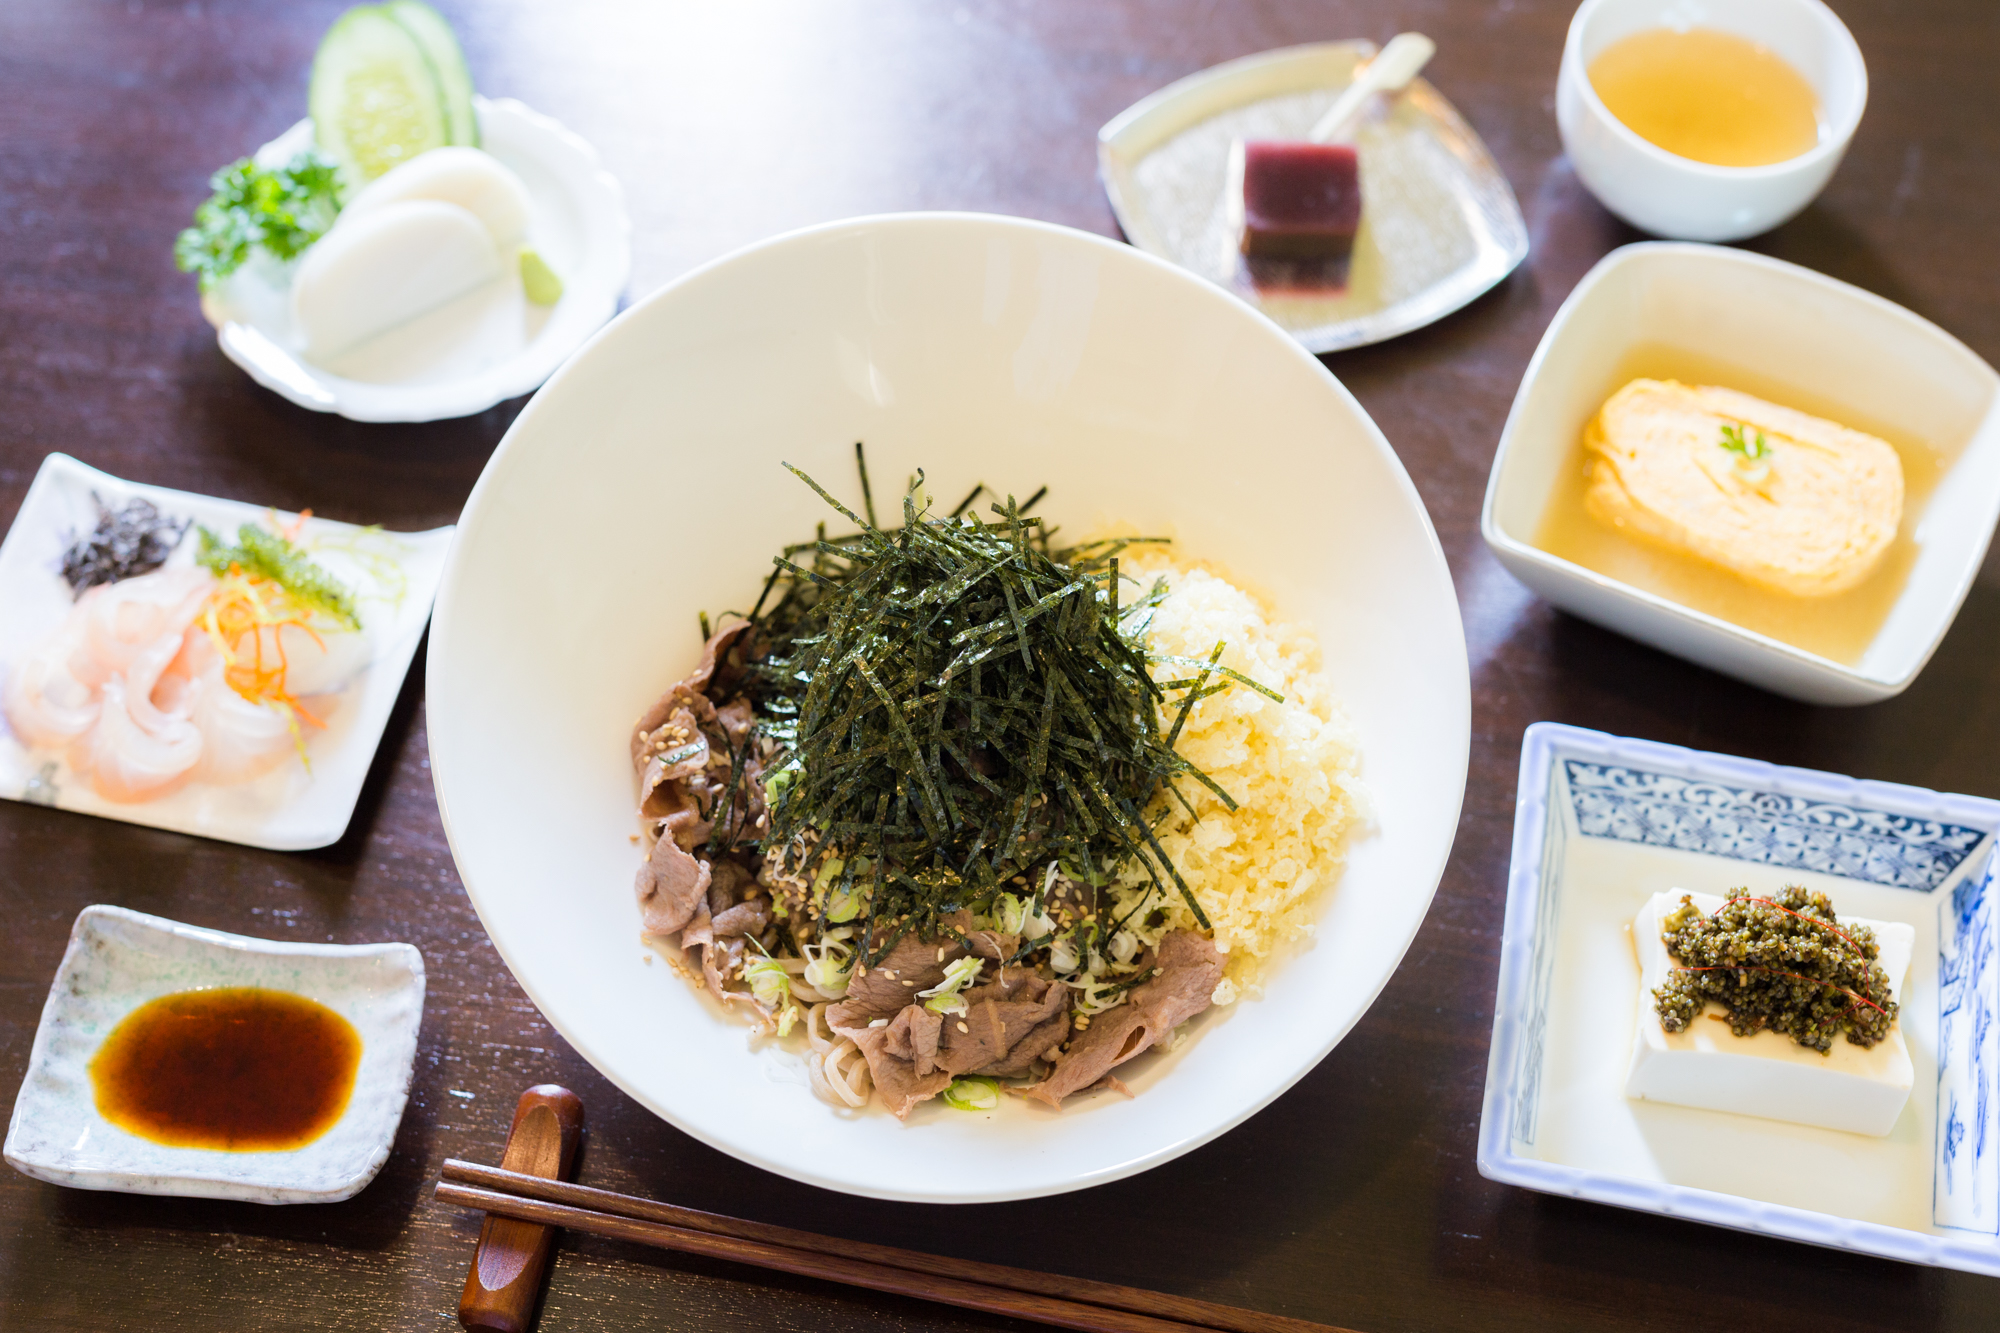Soba: (638, 492, 1277, 1119)
